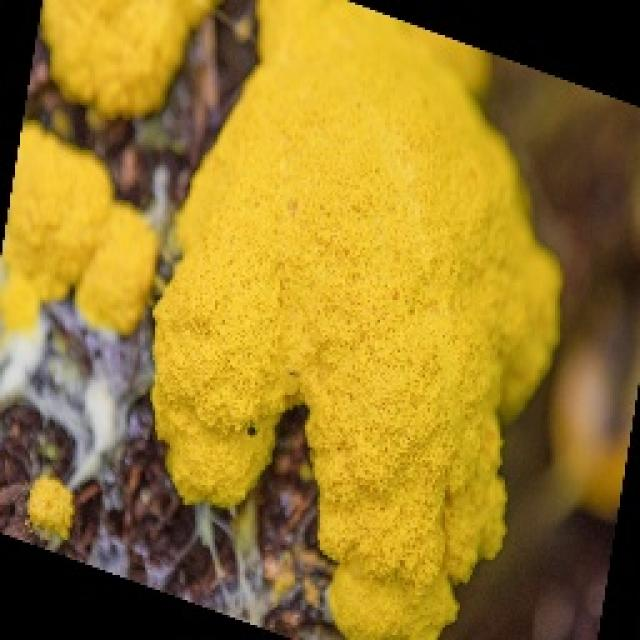Dog_vomit_slime_mold: (13, 13, 545, 630)
